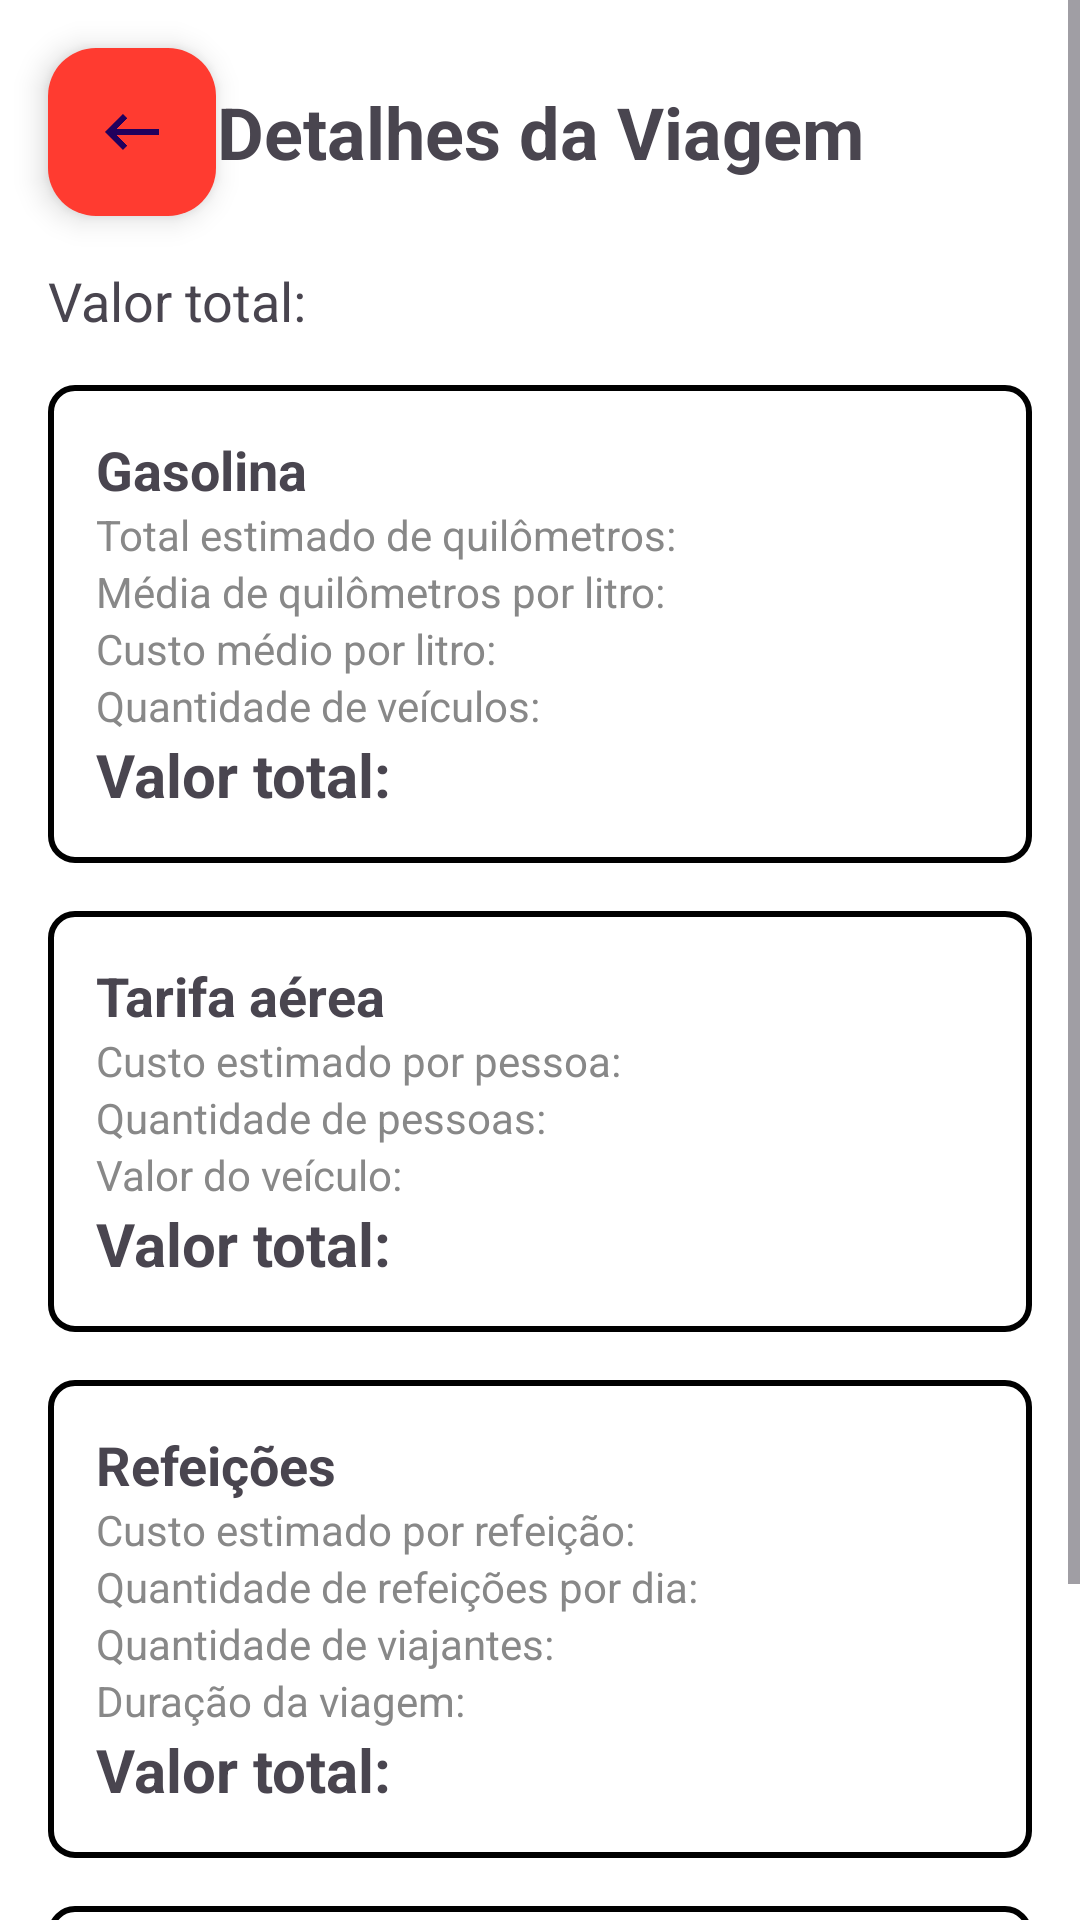

Where to tap for icons on this 1080px x 1920px app screen, as (x=x, y=y):
back arrow: (x=132, y=132)
